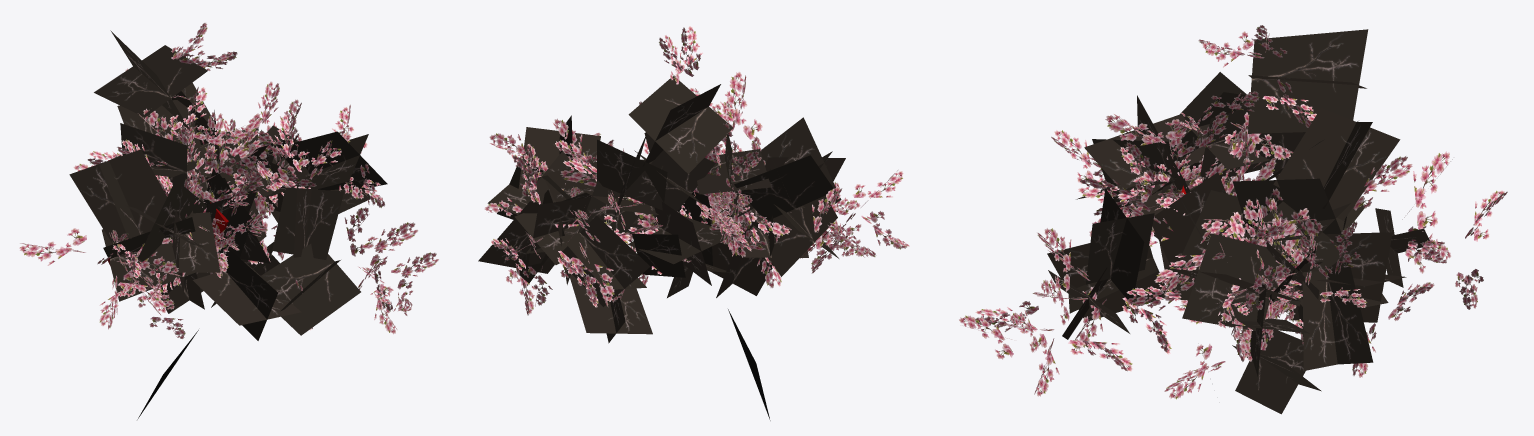
The model's file is sakura2 lod2.FBX.
The picture shows the model from 3 angles, left to right: view 1: azimuth 30°, elevation 25°; view 2: azimuth 150°, elevation 25°; view 3: azimuth 270°, elevation 25°; orthographic projection. The views are drawn at different scales.
Visible parts, largest first — view 1: sakura2_LOD2; view 2: sakura2_LOD2; view 3: sakura2_LOD2.
Boxes of the visible parts, x1,y1,x2,y2 form: sakura2_LOD2: (19,22,438,419); sakura2_LOD2: (478,26,909,420); sakura2_LOD2: (959,25,1507,414).
Bounding box in the file's own units: 72574 × 69306 × 80611.
